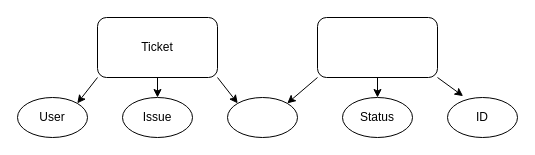
The diagram is 535 pixels wide and 155 high, and some of its shapes have lost their labels. Here are the shapes that lost their labels. From the top down, the centre of each, then its label:
At point (377, 47): "Fix".
At point (262, 117): "Ticket_id".
